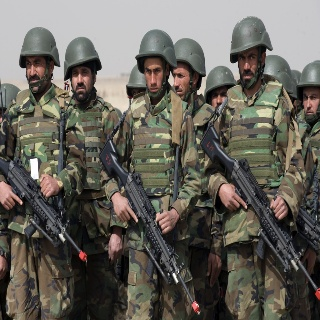rifle: (199, 123, 320, 302), (98, 138, 202, 317), (1, 155, 88, 265)
